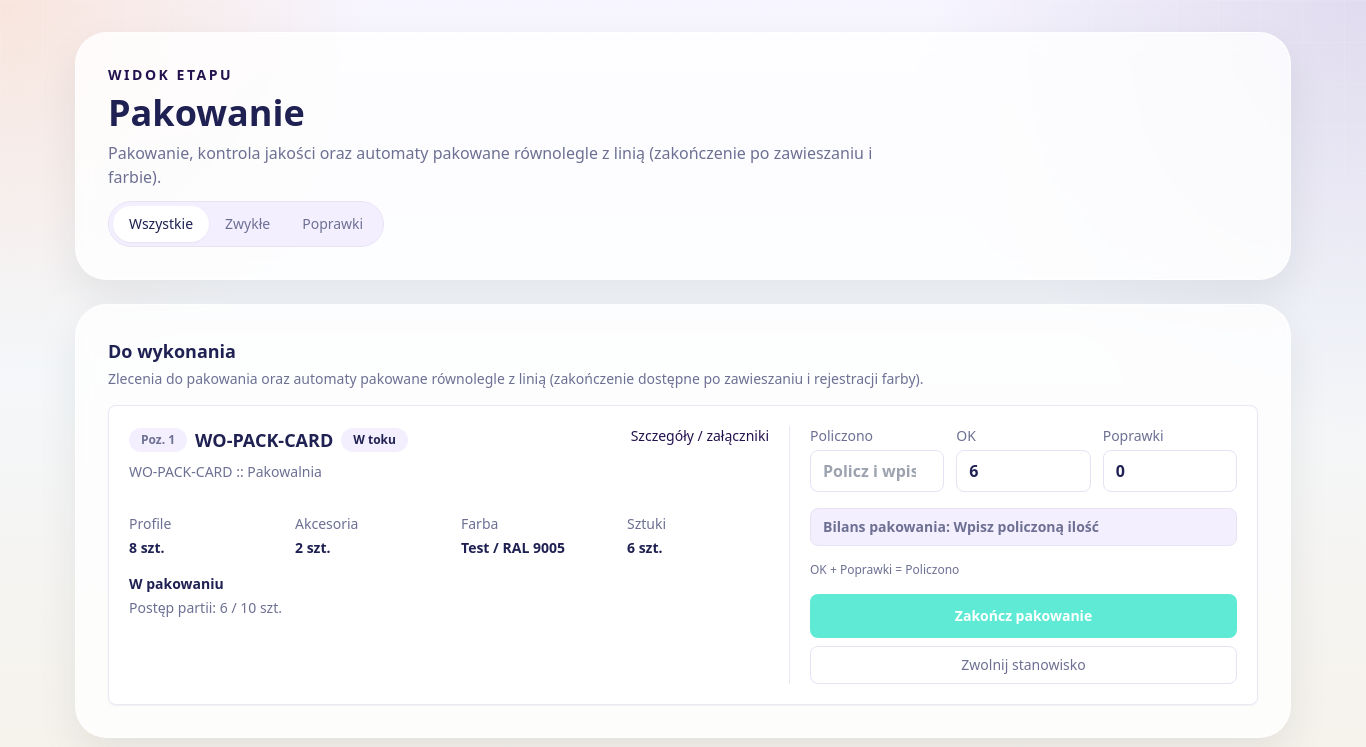
Test: frontend state consistency › shows packing split balance inside the active order card
This screenshot has width=1366, height=747.
Check: the text "WO-PACK-CARD :: Pakowalnia" is shown, box 129,462 -> 322,481
Check: the text "Bilans pakowania: Wpisz policzoną ilość" is shown, box 810,508 -> 1237,546
Step 1. Type "6" into the number field labelled "Policzono" → [877, 471], box 810,450 -> 944,492
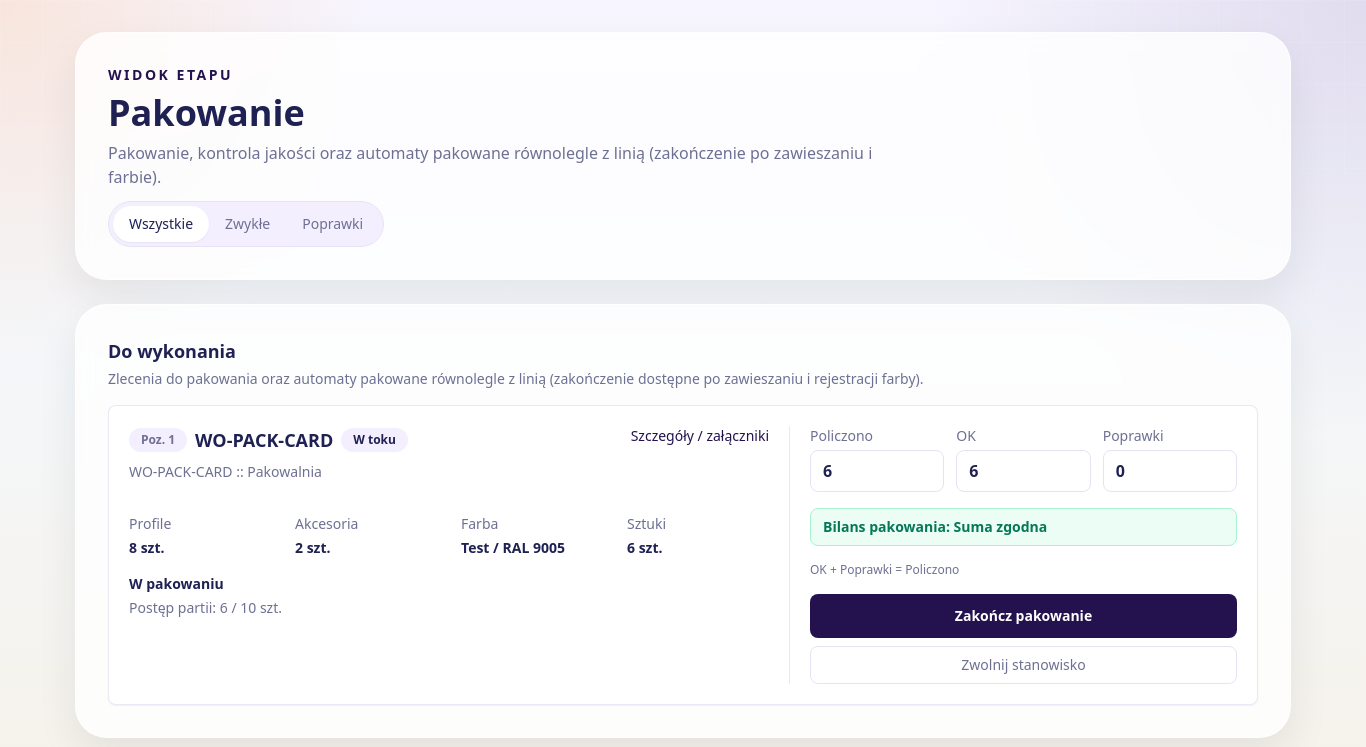
Check: the text "Bilans pakowania: Suma zgodna" is shown, box 810,508 -> 1237,546
Step 2. Replace the text in the number field labelled "OK" with "4" → [1023, 471], box 956,450 -> 1091,492
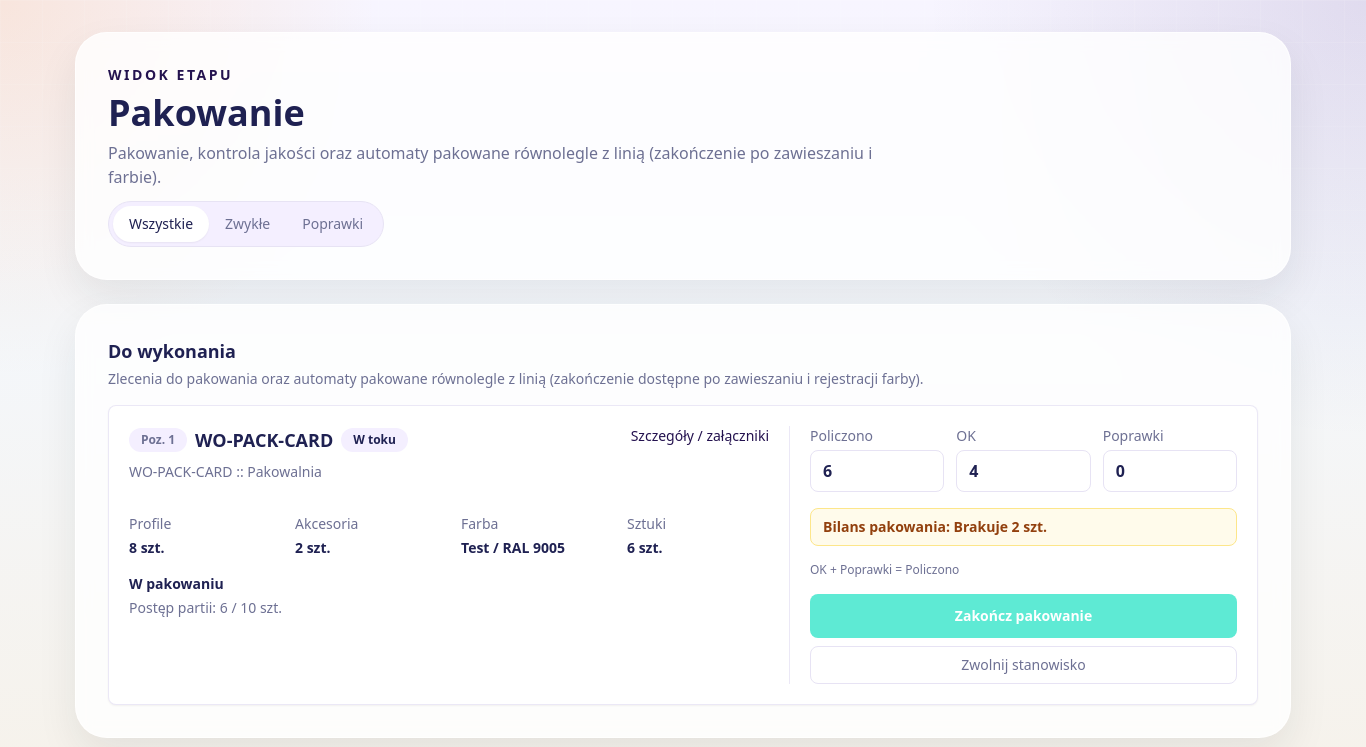
Check: the text "Bilans pakowania: Brakuje 2 szt." is shown, box 810,508 -> 1237,546
Step 3. Replace the text in the number field labelled "Poprawki" with "2" → [1170, 471], box 1103,450 -> 1237,492
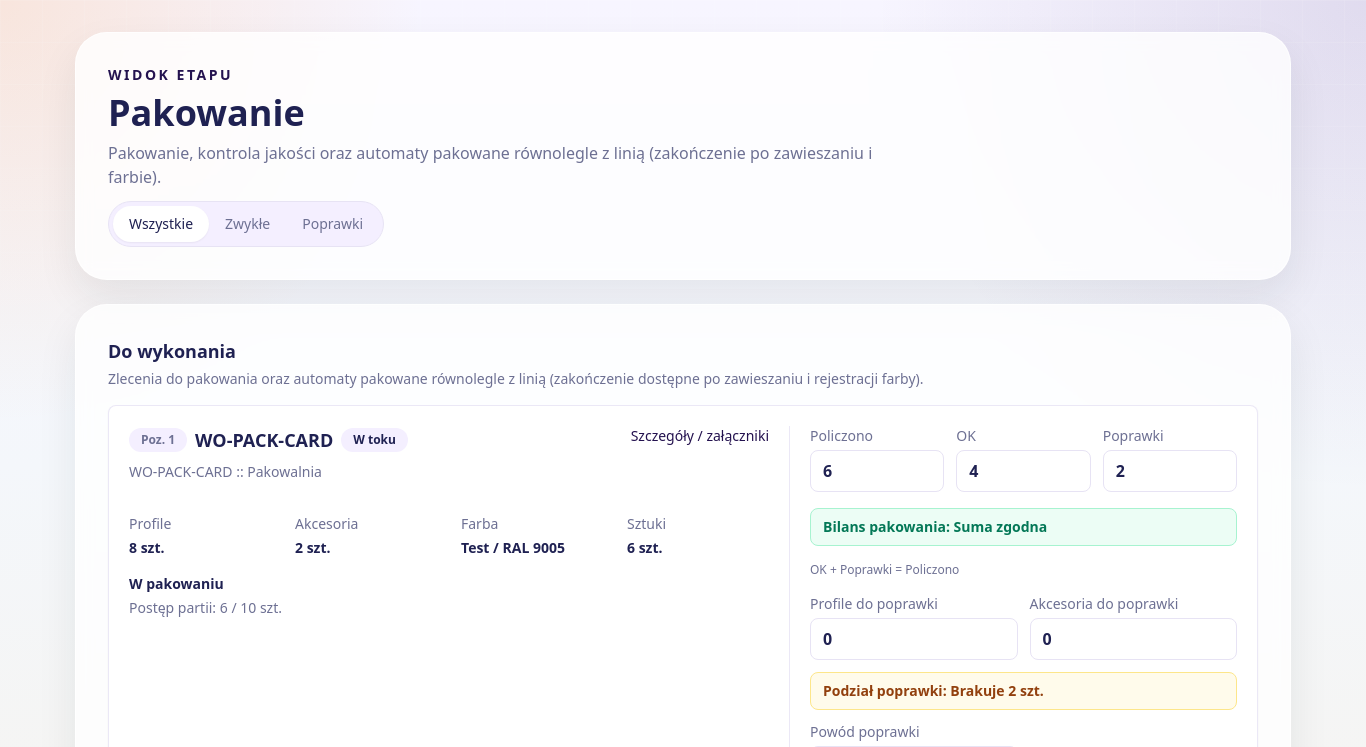
Check: the text "Bilans pakowania: Suma zgodna" is shown, box 810,508 -> 1237,546
Check: the text "Podział poprawki: Brakuje 2 szt." is shown, box 810,672 -> 1237,710
Check: the number of number fields is 5
Step 4. Replace the text in the number field labelled "Profile do poprawki" with "1" → [914, 639], box 810,618 -> 1018,660
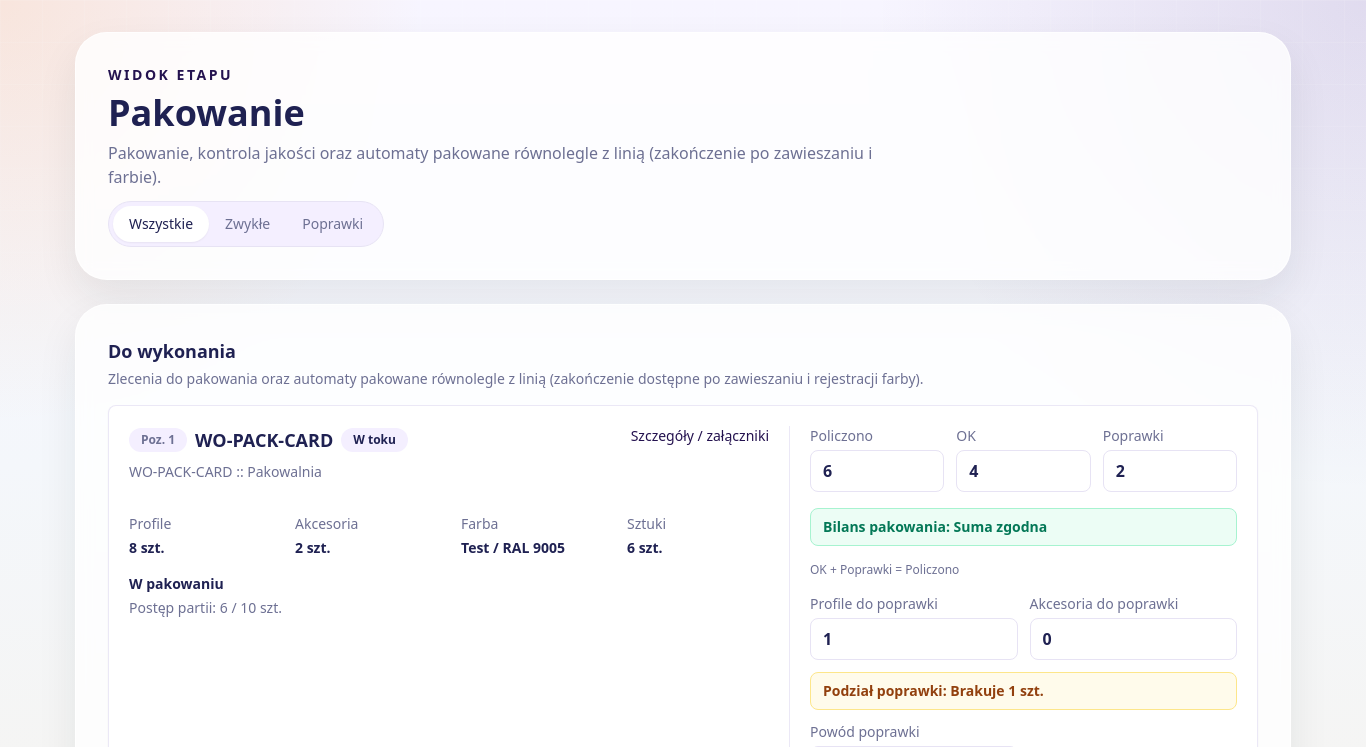
Check: the text "Podział poprawki: Brakuje 1 szt." is shown, box 810,672 -> 1237,710
Step 5. Replace the text in the number field labelled "Akcesoria do poprawki" with "1" → [1133, 639], box 1030,618 -> 1237,660
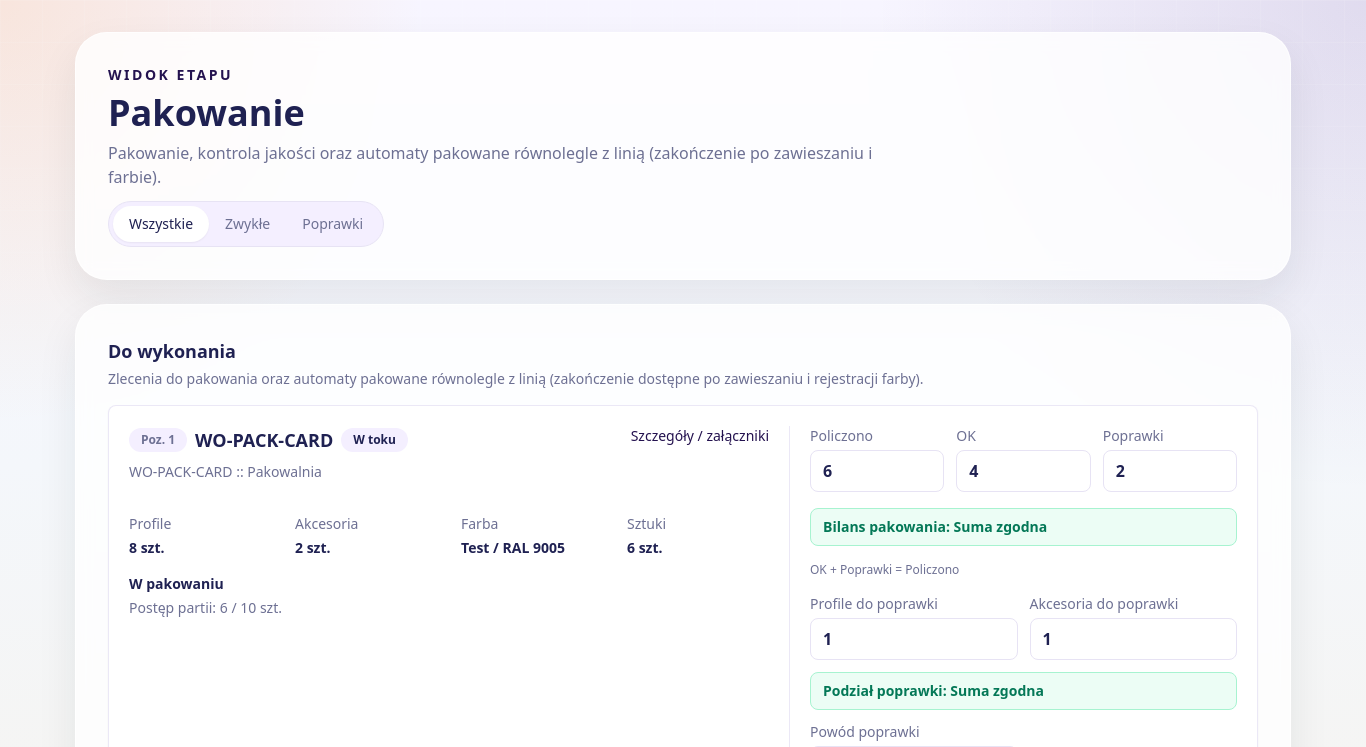
Check: the text "Podział poprawki: Suma zgodna" is shown, box 810,672 -> 1237,710
